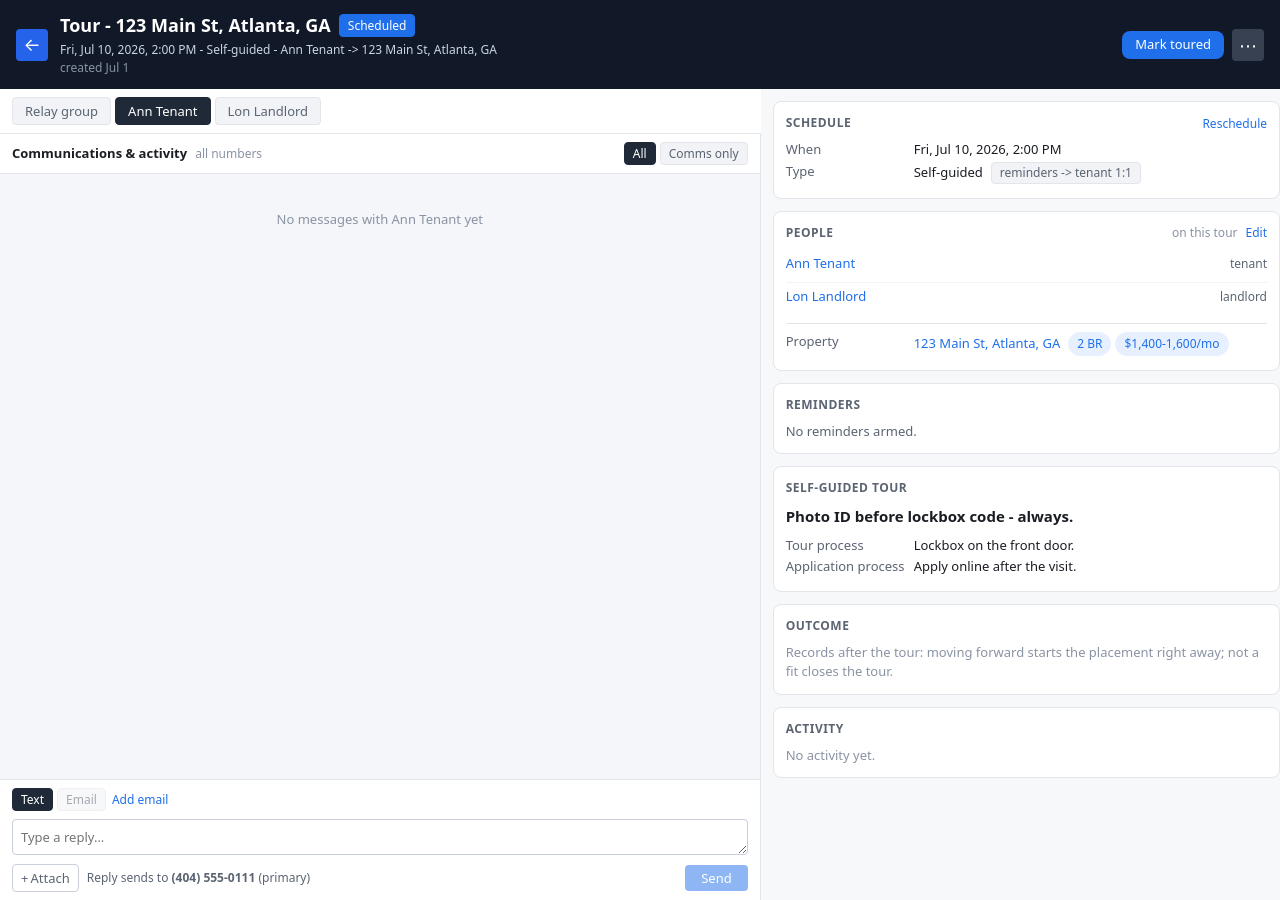
Test case: TourDetail - primary CTA ladder › a FAILED Mark toured surfaces the alert and opens no outcome modal
Expected: the link "←" is shown, [16,28,48,60]
Click the button "Mark toured": coordinates (1173, 44) [1122,30,1224,58]
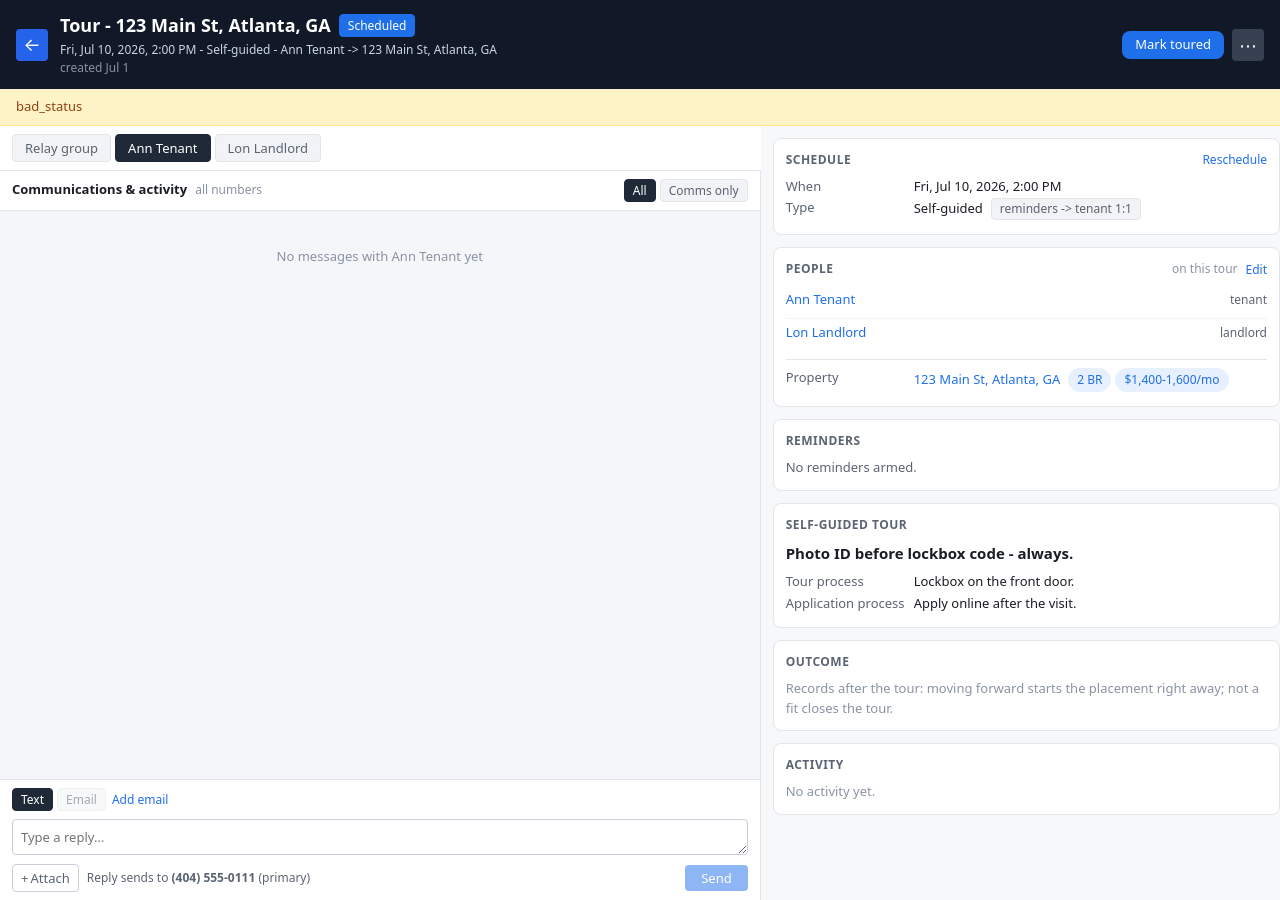
Now the message reads "bad_status", box [16,97,82,115]
